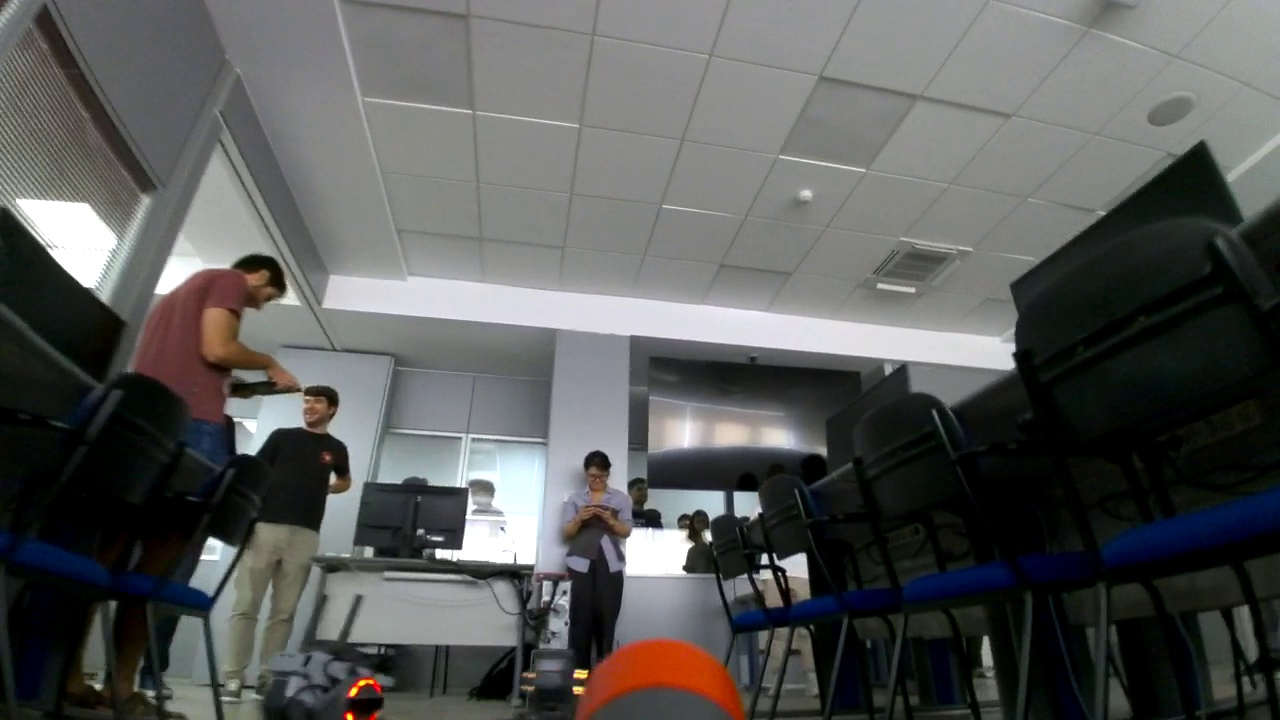robot: (263, 594, 382, 720), (523, 626, 588, 720)
